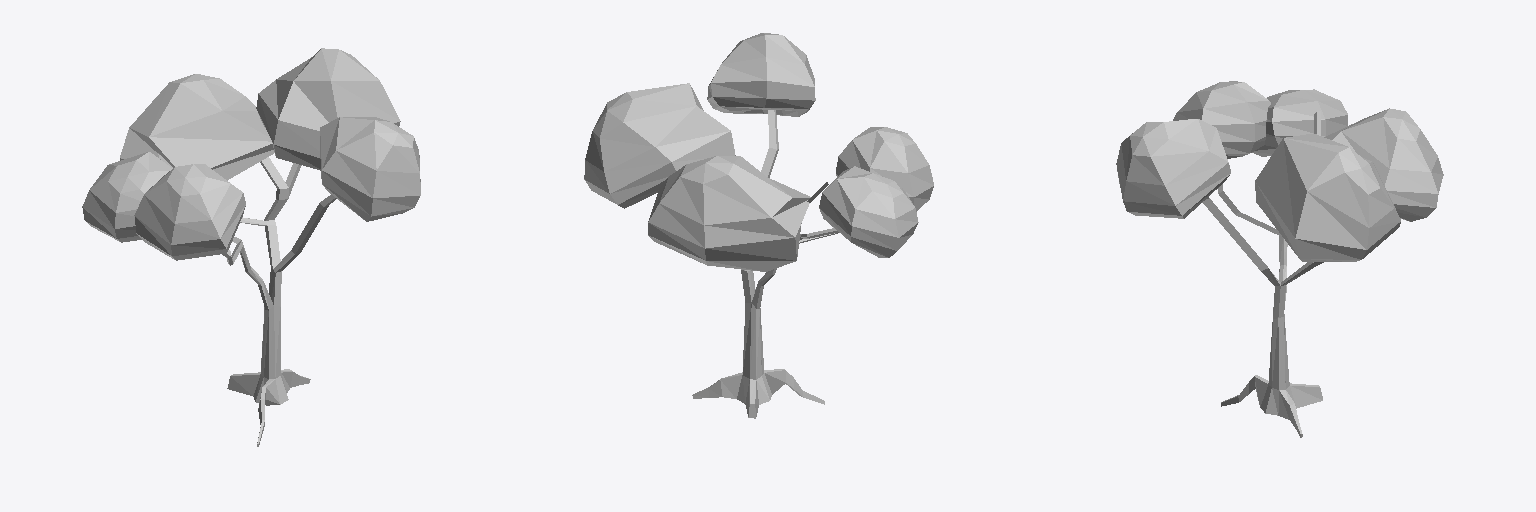
The model's file is eucalyptus_trees_2.obj.
3 renders of one model, left to right at view 1: azimuth 30°, elevation 25°; view 2: azimuth 150°, elevation 25°; view 3: azimuth 270°, elevation 25°, orthographic.
Parts seen in each view (by area): view 1: E_Leaf_13_Sphere.012, E_Leaf_12_Sphere.011, E_Leaf_11_Sphere.010, E_Leaf_10_Sphere.009, eucalyptus_trees.2_Cube.075, E_Leaf_9_Sphere.008; view 2: E_Leaf_13_Sphere.012, E_Leaf_12_Sphere.011, E_Leaf_11_Sphere.010, E_Leaf_9_Sphere.008, eucalyptus_trees.2_Cube.075, E_Leaf_10_Sphere.009; view 3: E_Leaf_12_Sphere.011, E_Leaf_11_Sphere.010, E_Leaf_13_Sphere.012, eucalyptus_trees.2_Cube.075, E_Leaf_10_Sphere.009, E_Leaf_9_Sphere.008.
Boxes of the visible parts, box(x1,y1,x2,y2) form: E_Leaf_13_Sphere.012: box(120, 74, 274, 180); E_Leaf_12_Sphere.011: box(256, 48, 400, 170); E_Leaf_11_Sphere.010: box(320, 117, 420, 221); E_Leaf_10_Sphere.009: box(134, 164, 245, 260); eucalyptus_trees.2_Cube.075: box(158, 153, 336, 446); E_Leaf_9_Sphere.008: box(82, 152, 172, 242); E_Leaf_13_Sphere.012: box(648, 156, 810, 271); E_Leaf_12_Sphere.011: box(584, 83, 735, 208); E_Leaf_11_Sphere.010: box(707, 33, 815, 116); E_Leaf_9_Sphere.008: box(819, 166, 918, 257); eucalyptus_trees.2_Cube.075: box(692, 110, 838, 418); E_Leaf_10_Sphere.009: box(836, 127, 933, 211); E_Leaf_12_Sphere.011: box(1255, 133, 1400, 261); E_Leaf_11_Sphere.010: box(1116, 119, 1230, 218); E_Leaf_13_Sphere.012: box(1324, 108, 1443, 221); eucalyptus_trees.2_Cube.075: box(1202, 111, 1323, 437); E_Leaf_10_Sphere.009: box(1173, 81, 1270, 158); E_Leaf_9_Sphere.008: box(1252, 89, 1347, 156).
Size of the model in its own units: 56.06 by 57.49 by 52.15.